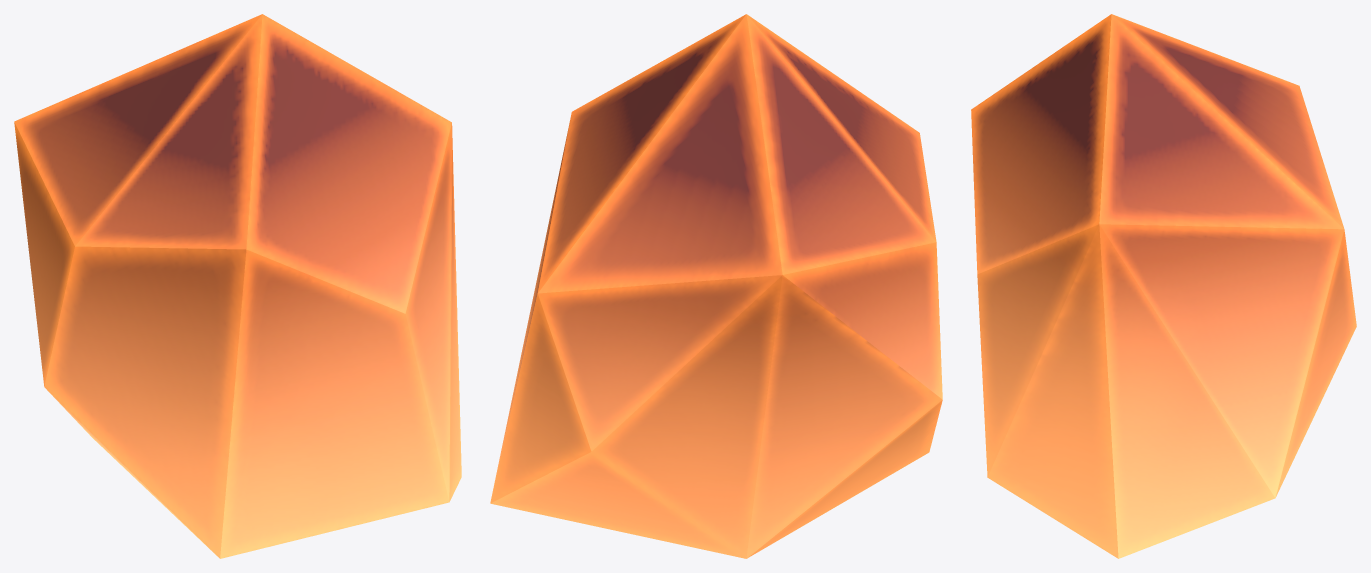
File: crystal_piece_004.fbx
3 views of the same model, side by side, from view 1: azimuth 30°, elevation 25°; view 2: azimuth 150°, elevation 25°; view 3: azimuth 270°, elevation 25° (orthographic). The views are drawn at different scales.
Visible parts, largest first — view 1: crystal_piece_004; view 2: crystal_piece_004; view 3: crystal_piece_004.
Part boxes in pixels (bbox=[...]): crystal_piece_004: bbox=[14, 14, 461, 558]; crystal_piece_004: bbox=[490, 14, 942, 558]; crystal_piece_004: bbox=[971, 14, 1356, 558].
Bounding box in the file's own units: 0.6343 × 0.76 × 0.5813.
1 material, 1 textured.
